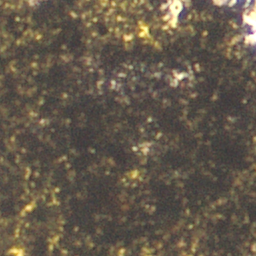cement_matrix: (0, 0, 255, 255)
gravel_crushed_stones: (245, 0, 255, 44), (167, 0, 182, 23), (217, 0, 234, 1)
